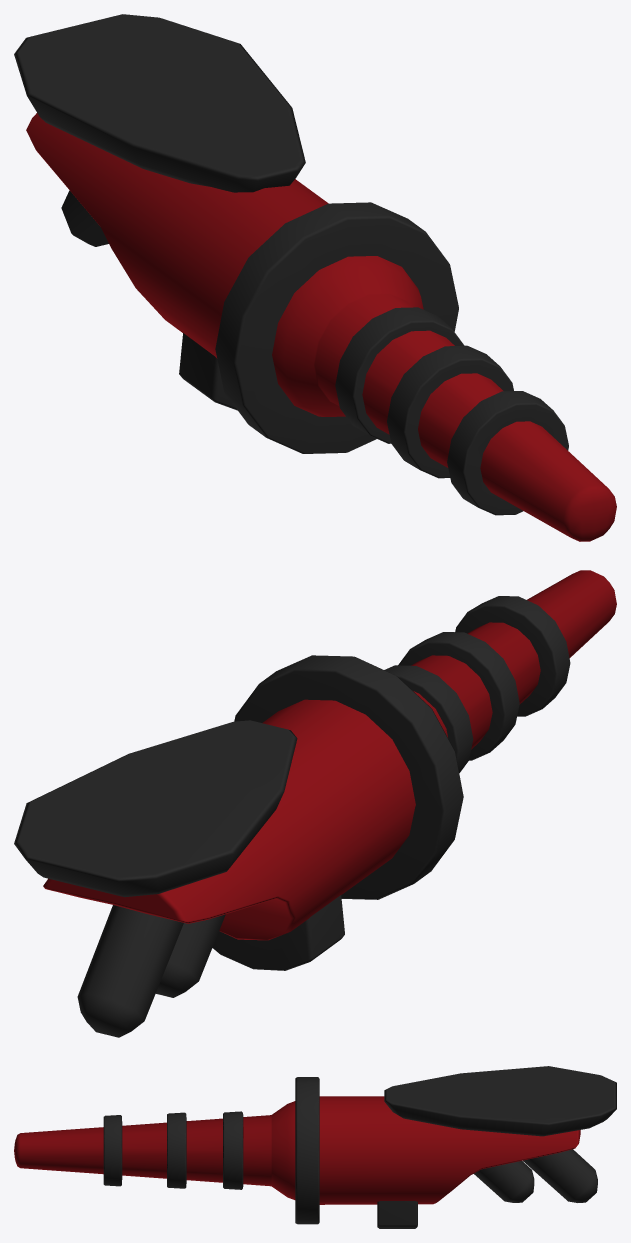
The model's file is Spaceship_main_03_Weapon_R.fbx.
The picture shows the model from 3 angles, top to bottom: view 1: azimuth 30°, elevation 25°; view 2: azimuth 150°, elevation 25°; view 3: azimuth 270°, elevation 25°; orthographic projection. The views are drawn at different scales.
Visible parts, largest first — view 1: Spaceship_main_03_Weapon_R; view 2: Spaceship_main_03_Weapon_R; view 3: Spaceship_main_03_Weapon_R.
Part boxes in pixels (x1,y1,x2,y2): Spaceship_main_03_Weapon_R: (14,14,616,541); Spaceship_main_03_Weapon_R: (14,570,616,1037); Spaceship_main_03_Weapon_R: (14,1066,616,1228).
Size of the model in its own units: 84.4 by 86.87 by 339.
